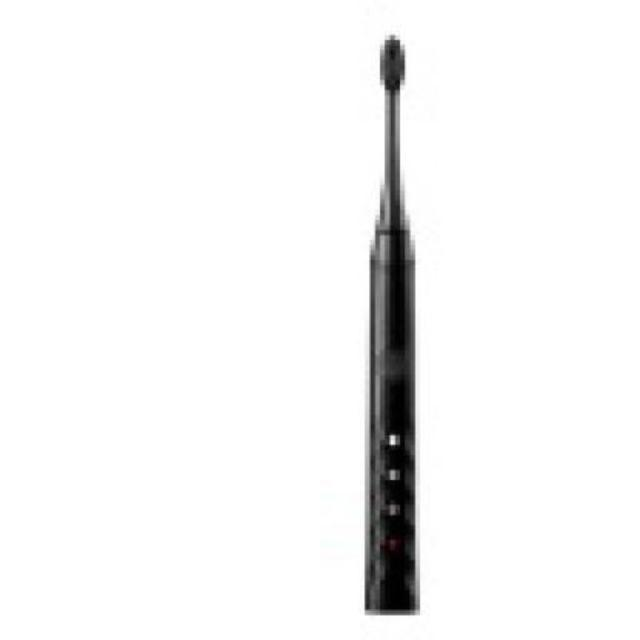toothbrush: (307, 15, 468, 635)
